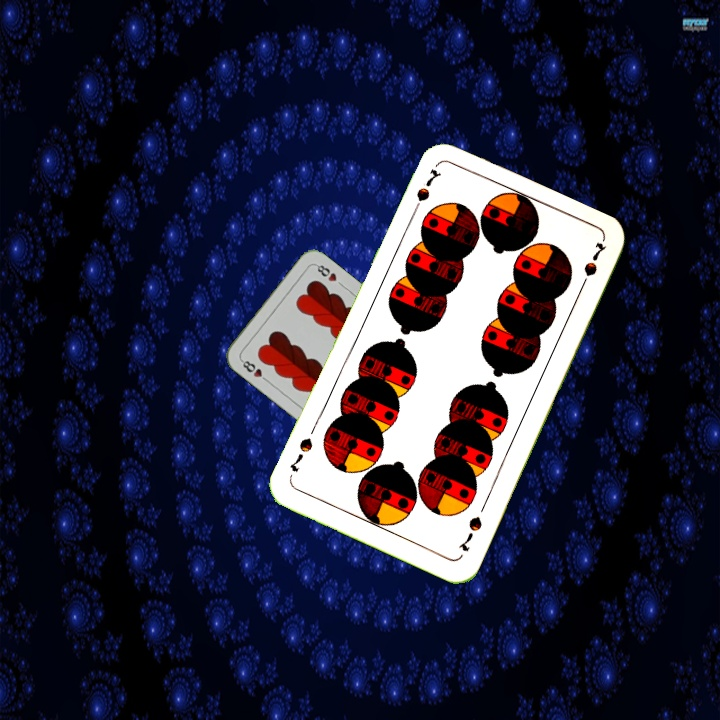H8: (237, 356, 272, 385)
S7: (407, 165, 444, 219), (454, 512, 485, 554)
